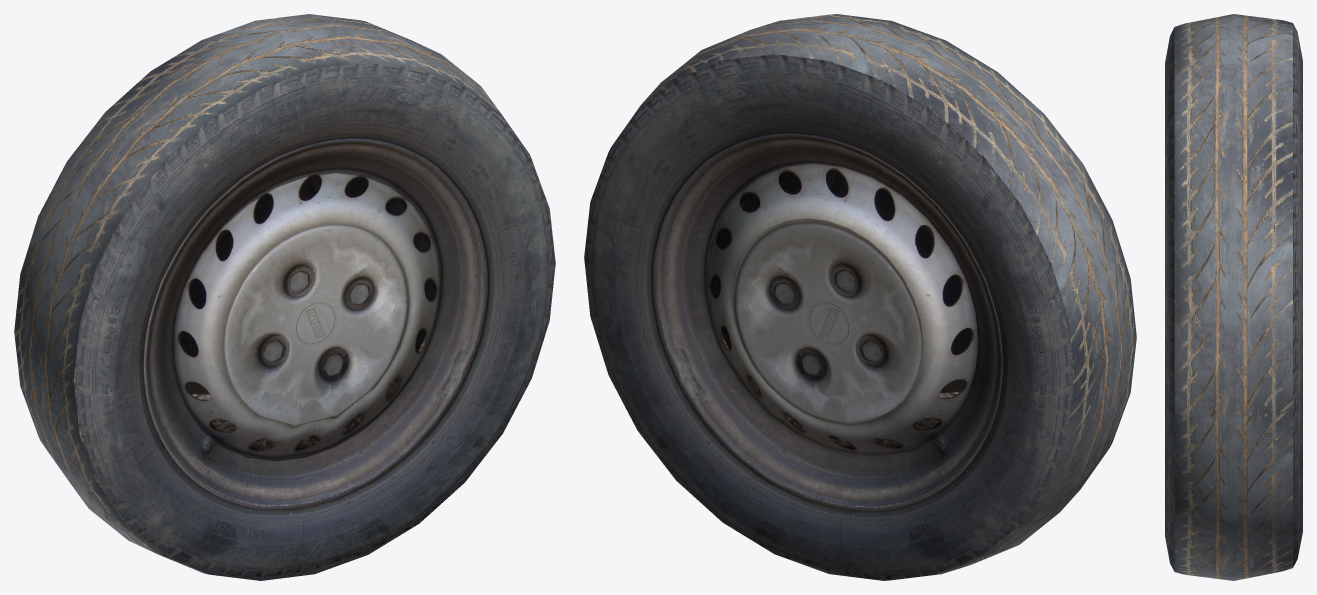
File: newLlanta.fbx
3 renders of one model, left to right at view 1: azimuth 30°, elevation 25°; view 2: azimuth 150°, elevation 25°; view 3: azimuth 270°, elevation 25°, orthographic. The views are drawn at different scales.
Visible parts, largest first — view 1: newLlanta; view 2: newLlanta; view 3: newLlanta.
Part boxes in pixels (<box>): newLlanta: <box>14,14,555,580</box>; newLlanta: <box>584,14,1136,580</box>; newLlanta: <box>1165,14,1302,580</box>.
Bounding box in the file's own units: 35.56 × 35.56 × 8.65.
